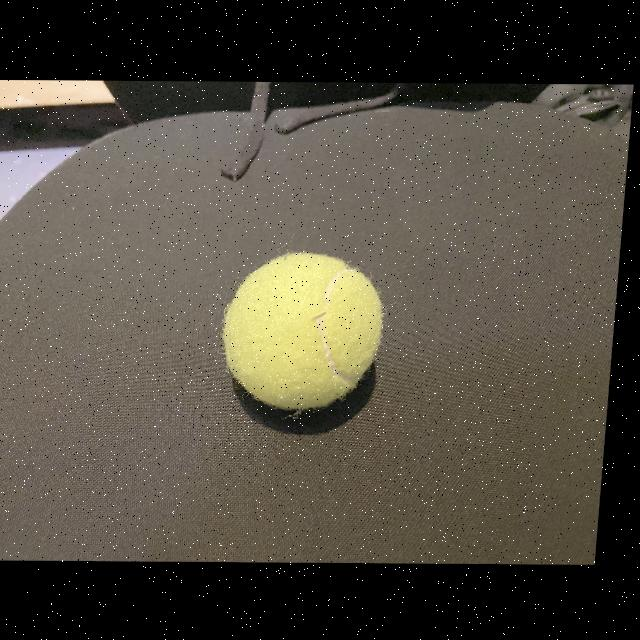Tennisball: (223, 252, 382, 409)
